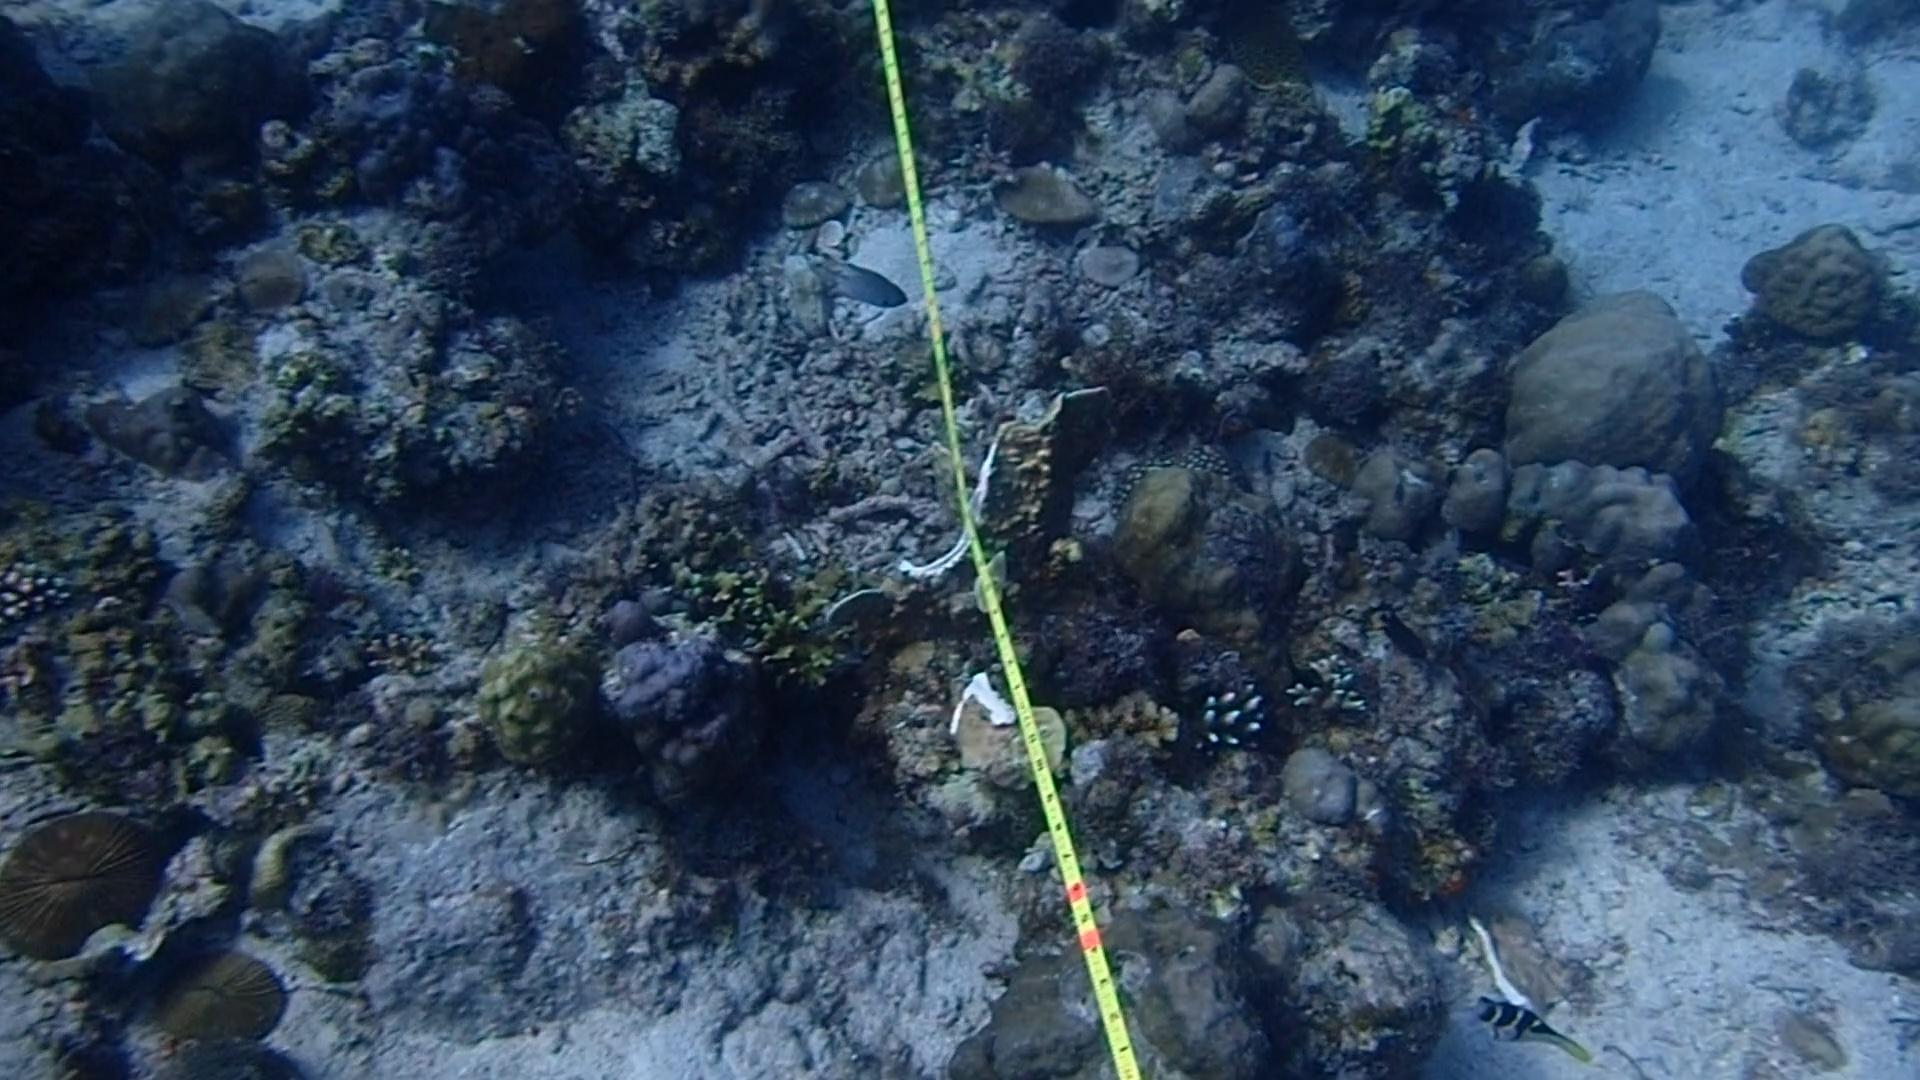Striped Fish: (1458, 993, 1582, 1067)
